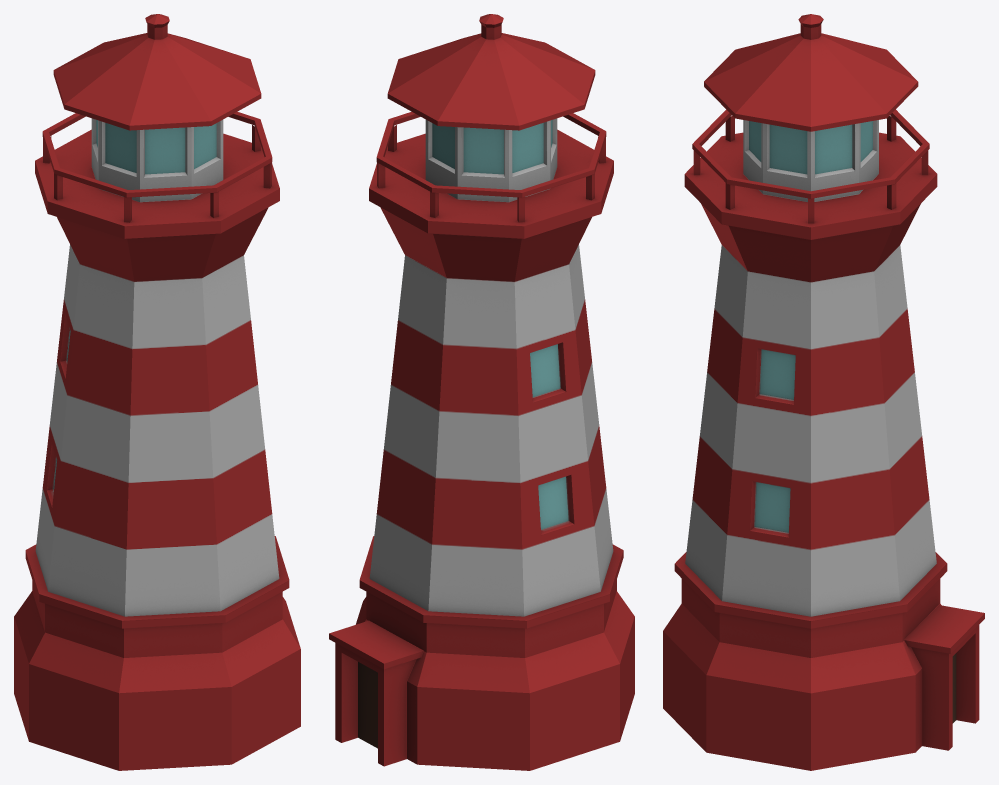
File: Lighthouse.glb
3 renders of one model, left to right at view 1: azimuth 30°, elevation 25°; view 2: azimuth 150°, elevation 25°; view 3: azimuth 270°, elevation 25°, orthographic.
Visible parts, largest first — view 1: Lighthouse; view 2: Lighthouse; view 3: Lighthouse.
Boxes of the visible parts, x1,y1,x2,y2 form: Lighthouse: (14,14,300,770); Lighthouse: (329,14,634,770); Lighthouse: (663,14,984,770).
Size of the model in its own units: 13.83 by 35.81 by 15.04.
1 material, 1 textured.
